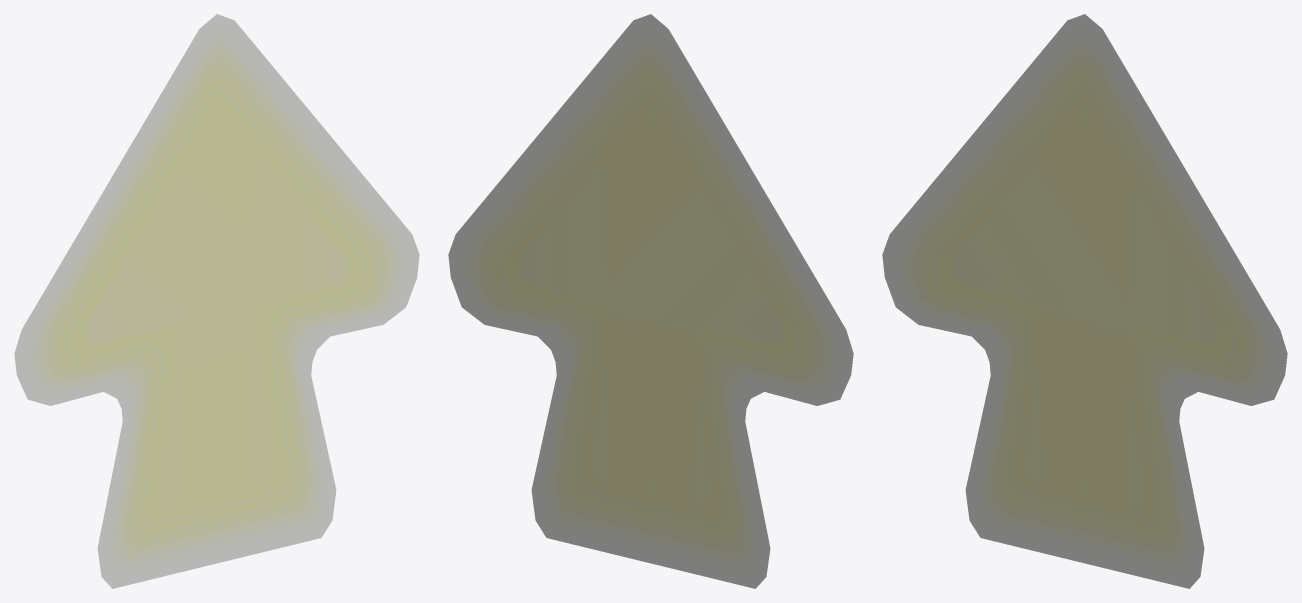
File: arrow_with_halo.fbx
The picture shows the model from 3 angles, left to right: view 1: azimuth 30°, elevation 25°; view 2: azimuth 150°, elevation 25°; view 3: azimuth 330°, elevation 25°; orthographic projection.
Visible parts, largest first — view 1: polySurface1; view 2: polySurface1; view 3: polySurface1.
Part boxes in pixels (left/top/right/bottom): polySurface1: left=14, top=14, right=419, bottom=588; polySurface1: left=448, top=14, right=853, bottom=588; polySurface1: left=882, top=14, right=1287, bottom=588.
Size of the model in its own units: 47.06 by 60.97 by 9.93e-06.
Materials: 1 (1 with a texture image).
